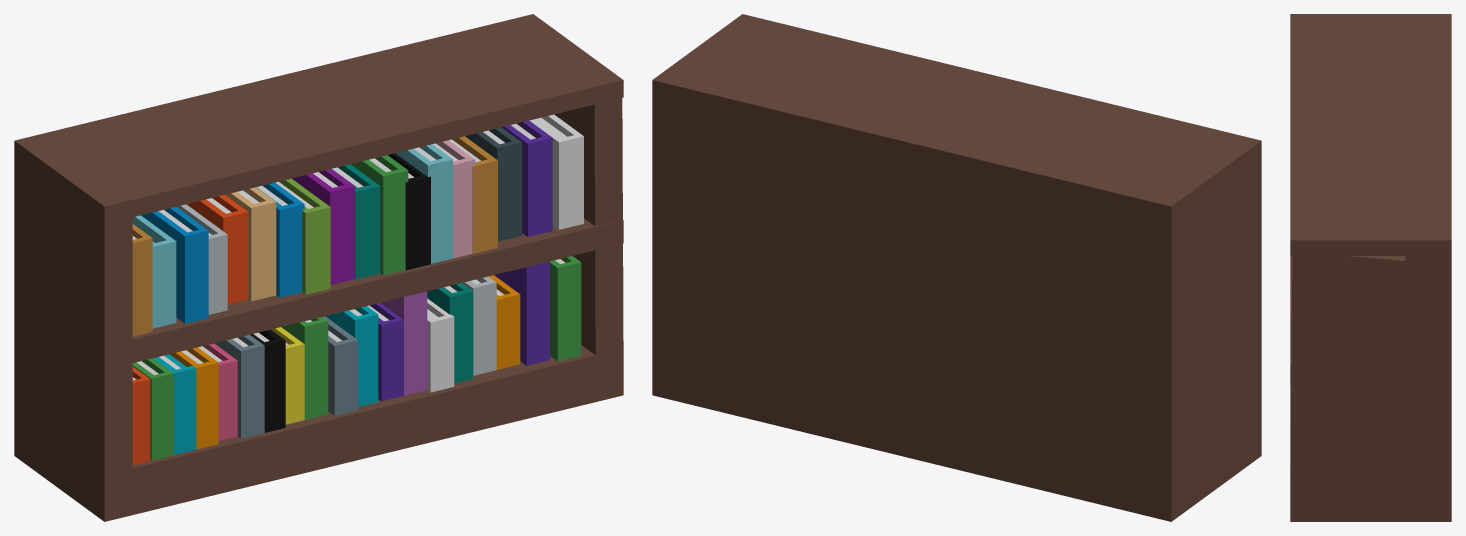
3 renders of one model, left to right at view 1: azimuth 30°, elevation 25°; view 2: azimuth 150°, elevation 25°; view 3: azimuth 270°, elevation 25°, orthographic. The views are drawn at different scales.
Parts seen in each view (by area): view 1: node_MeshObject-1967706112-PolyPaper21, node_MeshObject619771904-PolyPaper21; view 2: node_MeshObject-1967706112-PolyPaper21; view 3: node_MeshObject-1967706112-PolyPaper21, node_MeshObject619771904-PolyPaper21.
Boxes of the visible parts, x1=… form: node_MeshObject-1967706112-PolyPaper21: x1=14, y1=14, x2=623, y2=521; node_MeshObject619771904-PolyPaper21: x1=132, y1=98, x2=623, y2=362; node_MeshObject-1967706112-PolyPaper21: x1=652, y1=14, x2=1261, y2=521; node_MeshObject-1967706112-PolyPaper21: x1=1290, y1=14, x2=1451, y2=521; node_MeshObject619771904-PolyPaper21: x1=1290, y1=251, x2=1416, y2=485.
Bounding box in the file's own units: 0.9302 × 0.5399 × 0.2802.
